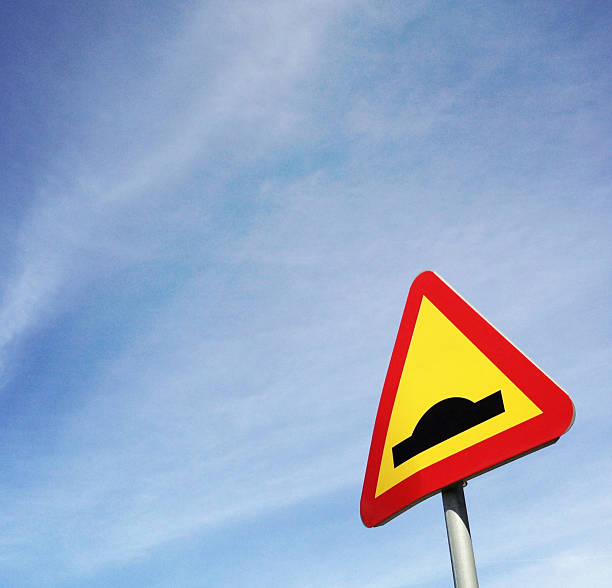speed-breaker: (361, 269, 566, 505)
